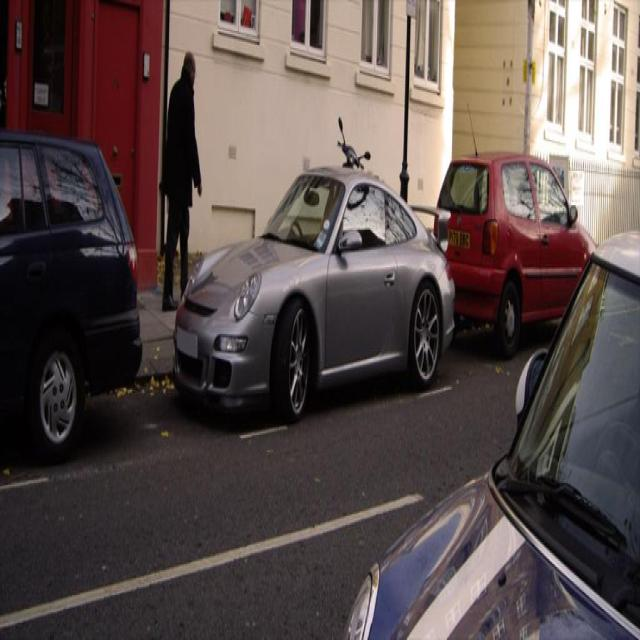car: (172, 162, 451, 426)
